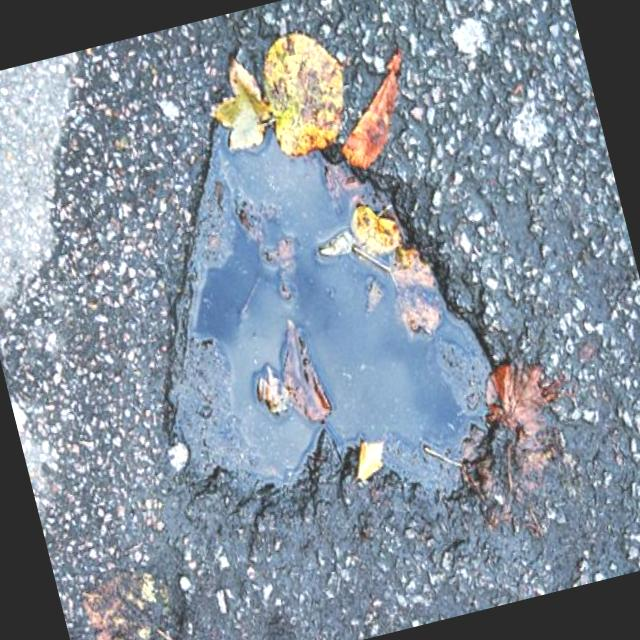pothole: (74, 28, 530, 580)
